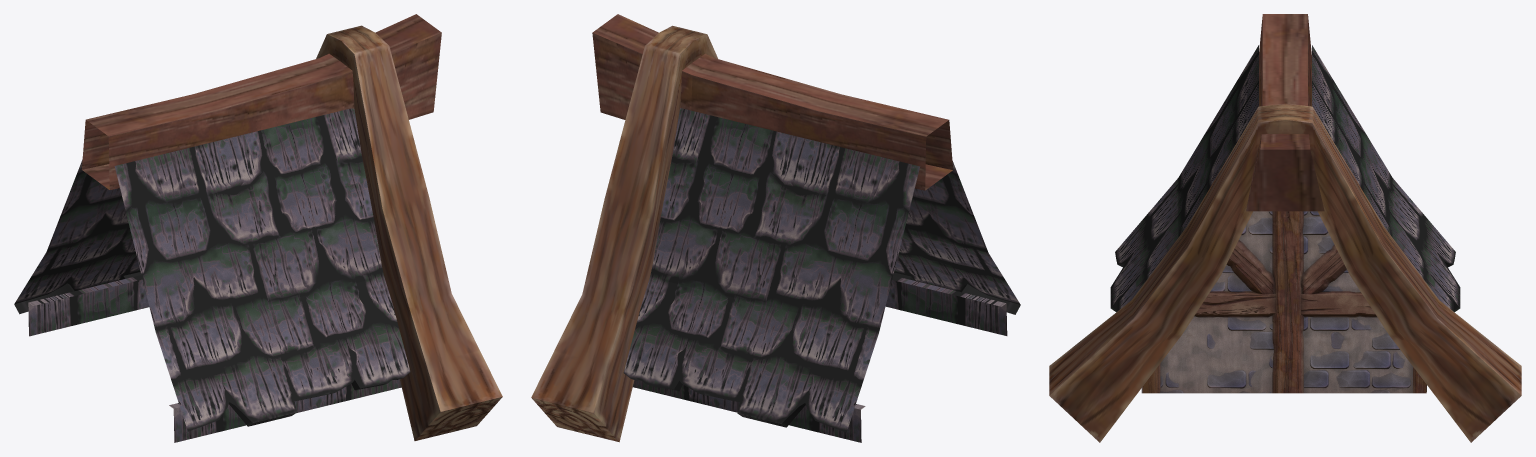
File: roof_half.fbx
3 views of the same model, side by side, from view 1: azimuth 30°, elevation 25°; view 2: azimuth 150°, elevation 25°; view 3: azimuth 270°, elevation 25° (orthographic). The views are drawn at different scales.
Parts seen in each view (by area): view 1: roof_half; view 2: roof_half; view 3: roof_half.
Part boxes in pixels (x1,y1,x2,y2): roof_half: [14, 14, 502, 442]; roof_half: [531, 14, 1020, 442]; roof_half: [1049, 14, 1521, 442].
Size of the model in its own units: 198 by 185 by 248.
